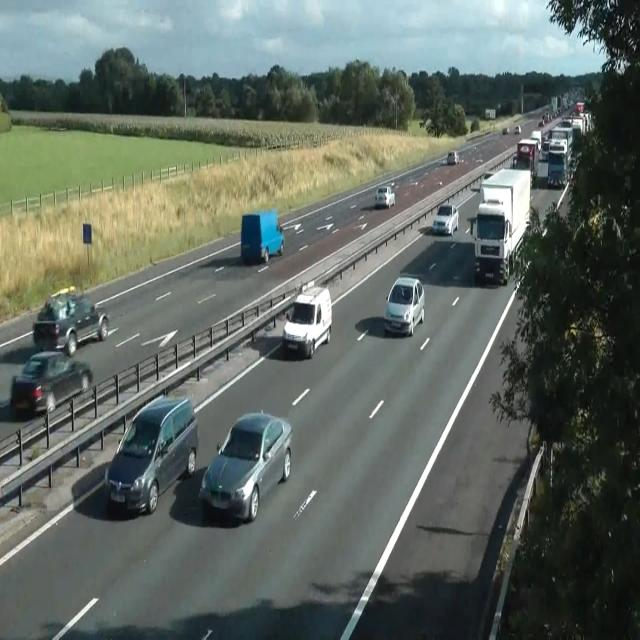bus: (384, 276, 425, 336), (432, 202, 459, 235), (374, 185, 395, 209), (517, 139, 535, 160), (479, 171, 493, 190), (540, 139, 550, 161), (447, 150, 459, 166), (440, 156, 448, 166), (514, 125, 520, 134), (537, 120, 544, 127), (502, 126, 508, 134)
car: (514, 100, 592, 188)
jeep: (104, 393, 198, 515), (198, 410, 292, 522), (10, 349, 92, 417), (32, 286, 110, 356), (282, 283, 332, 358), (474, 201, 511, 284)
minibus: (474, 167, 530, 285), (240, 208, 284, 265), (547, 126, 581, 188), (514, 138, 540, 186), (530, 130, 542, 151), (485, 108, 495, 119)
